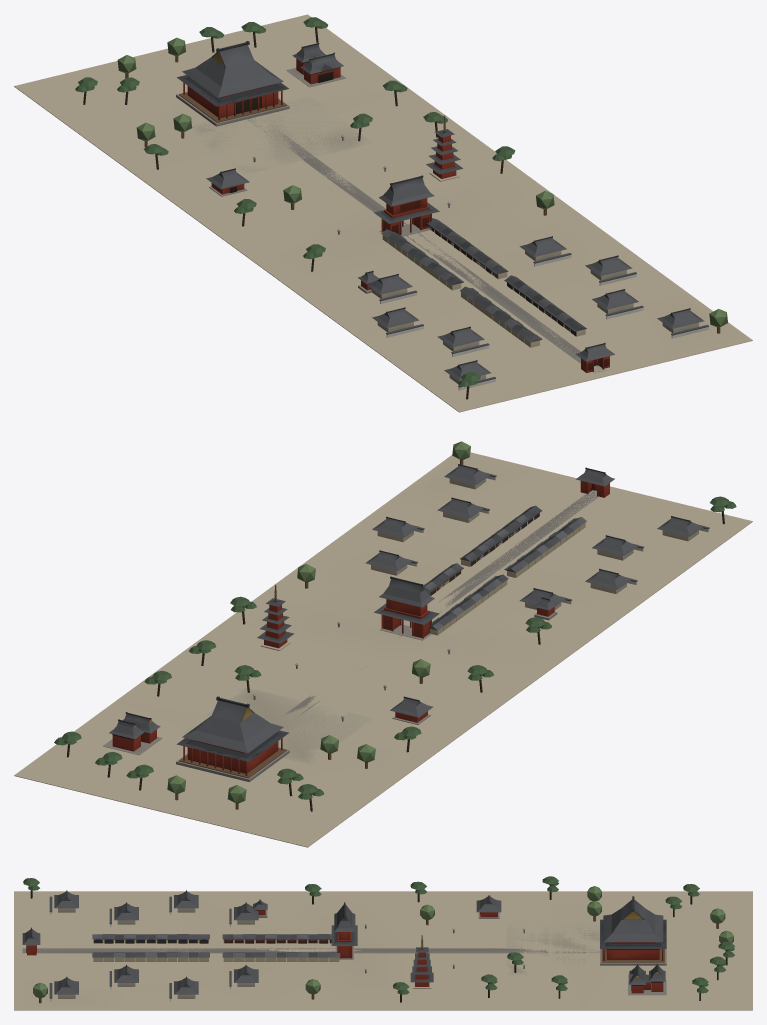
The model's file is sensoji.glb.
The picture shows the model from 3 angles, top to bottom: view 1: azimuth 30°, elevation 25°; view 2: azimuth 150°, elevation 25°; view 3: azimuth 270°, elevation 25°; orthographic projection. The views are drawn at different scales.
Visible parts, largest first — view 1: p0_precinct, p2_subtemples, p1_gates; view 2: p0_precinct, p2_subtemples, p1_gates; view 3: p0_precinct, p2_subtemples, p1_gates.
Part boxes in pixels (bbox=[...]): p0_precinct: bbox=[14, 14, 752, 412]; p2_subtemples: bbox=[75, 17, 727, 399]; p1_gates: bbox=[374, 175, 614, 372]; p0_precinct: bbox=[14, 452, 752, 847]; p2_subtemples: bbox=[54, 441, 736, 811]; p1_gates: bbox=[374, 467, 614, 640]; p0_precinct: bbox=[14, 891, 752, 1010]; p2_subtemples: bbox=[23, 876, 734, 1003]; p1_gates: bbox=[22, 902, 357, 961].
Size of the model in its own units: 160 by 32 by 420.
